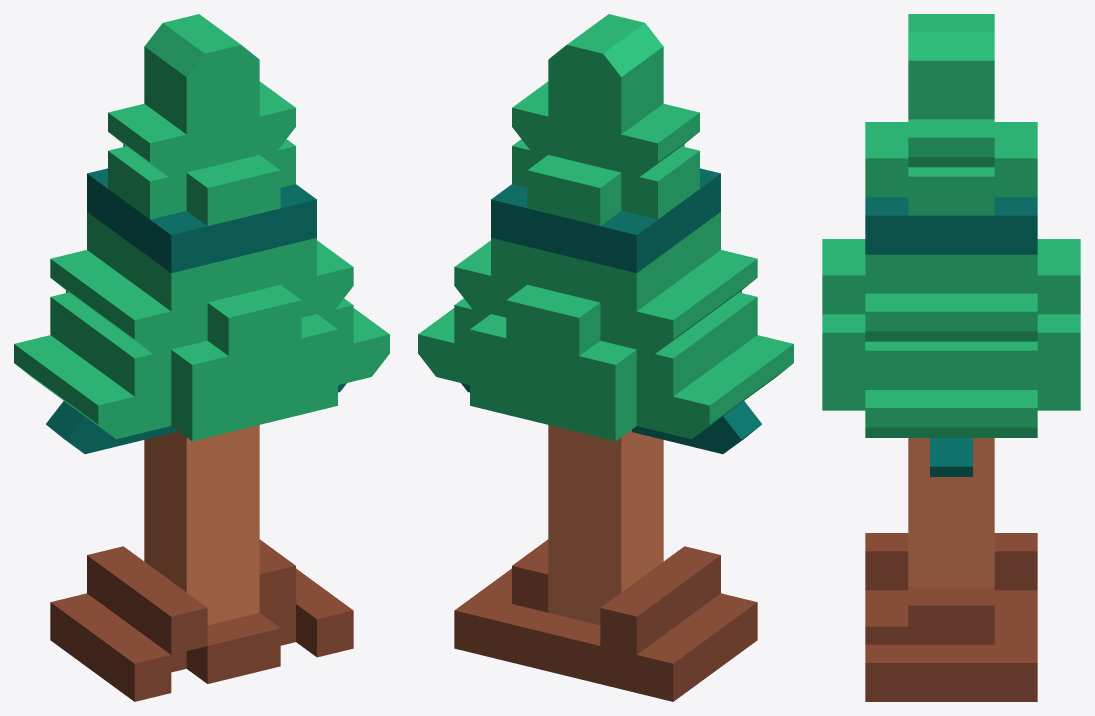
Rendered from pine.fbx.
3 renders of one model, left to right at view 1: azimuth 30°, elevation 25°; view 2: azimuth 150°, elevation 25°; view 3: azimuth 270°, elevation 25°, orthographic. The views are drawn at different scales.
Parts seen in each view (by area): view 1: generated; view 2: generated; view 3: generated.
Boxes of the visible parts, x1,y1,x2,y2 form: generated: [14, 14, 389, 701]; generated: [418, 14, 793, 701]; generated: [822, 14, 1080, 701].
Size of the model in its own units: 80 by 160 by 60.
